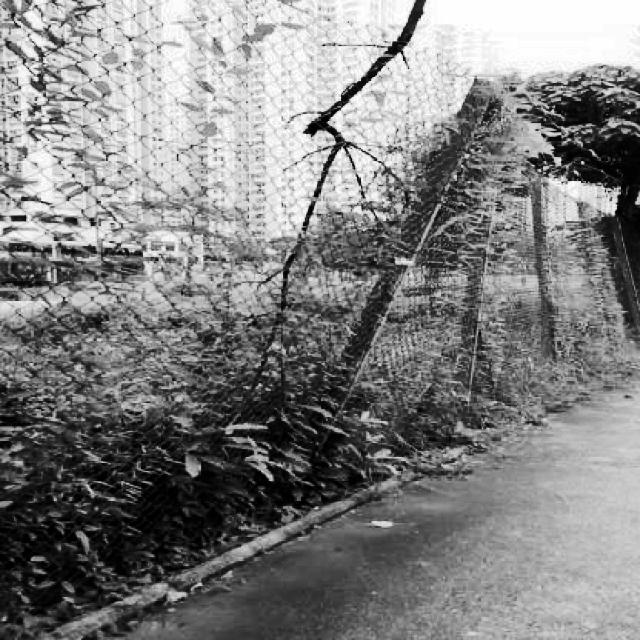anomaly-fence: (312, 23, 522, 454)
